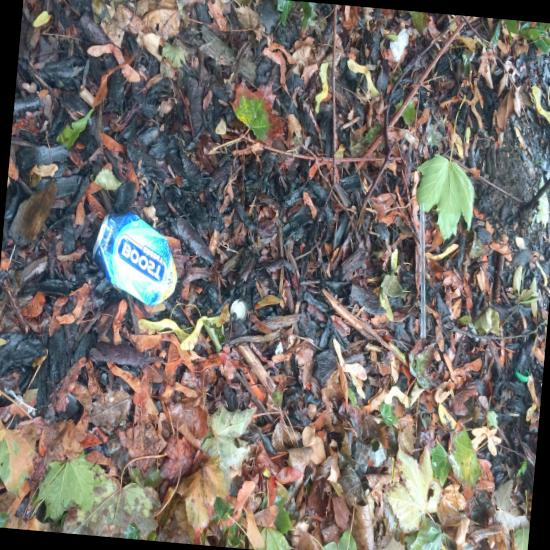Drink can: (92, 212, 177, 305)
Metal bottle cap: (230, 299, 247, 321)
Plastic straw: (419, 203, 425, 337)
